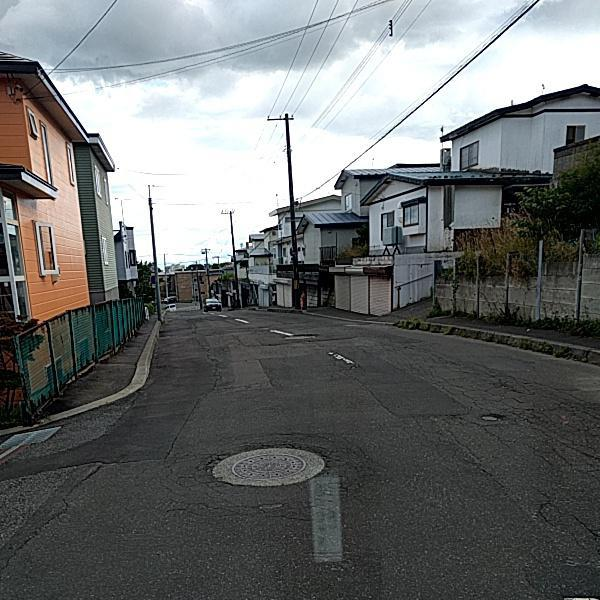D00: (2, 458, 100, 563)
D20: (332, 329, 599, 491)
D50: (210, 451, 330, 483), (478, 412, 497, 420)
